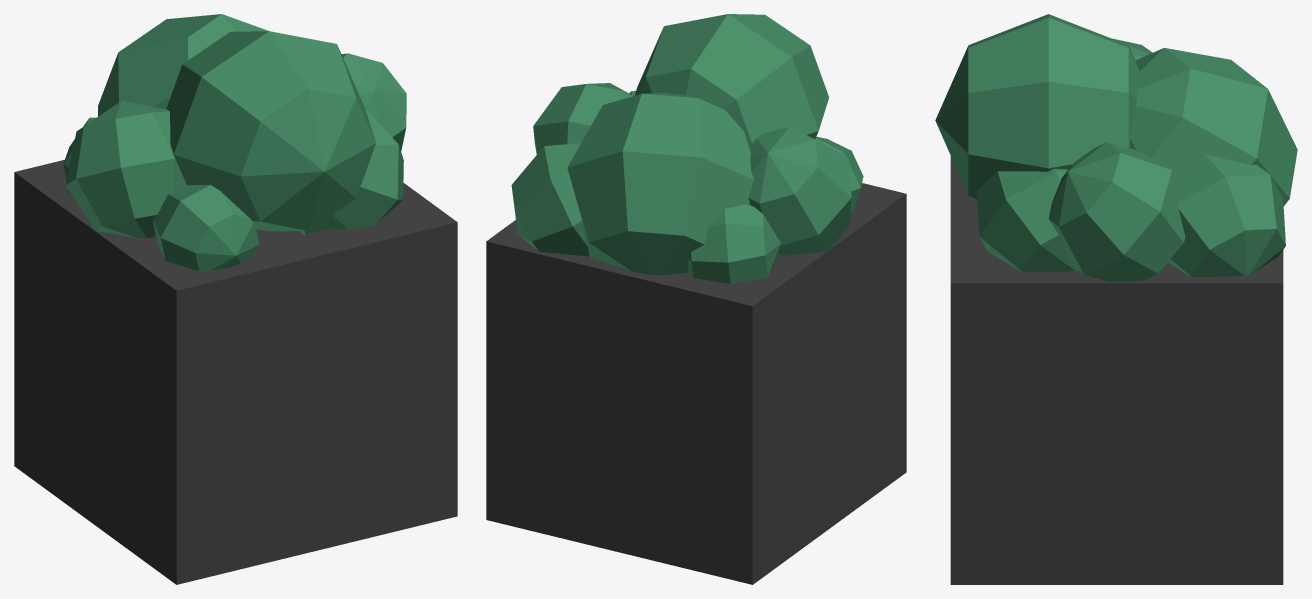
File: bush.fbx
The picture shows the model from 3 angles, left to right: view 1: azimuth 30°, elevation 25°; view 2: azimuth 150°, elevation 25°; view 3: azimuth 270°, elevation 25°; orthographic projection. The views are drawn at different scales.
Parts seen in each view (by area): view 1: pSphere9; view 2: pSphere9; view 3: pSphere9.
Part boxes in pixels (bbox=[...]): pSphere9: bbox=[14, 14, 457, 584]; pSphere9: bbox=[486, 14, 906, 584]; pSphere9: bbox=[935, 14, 1297, 584].
Bounding box in the file's own units: 91.44 × 129 × 85.03.
